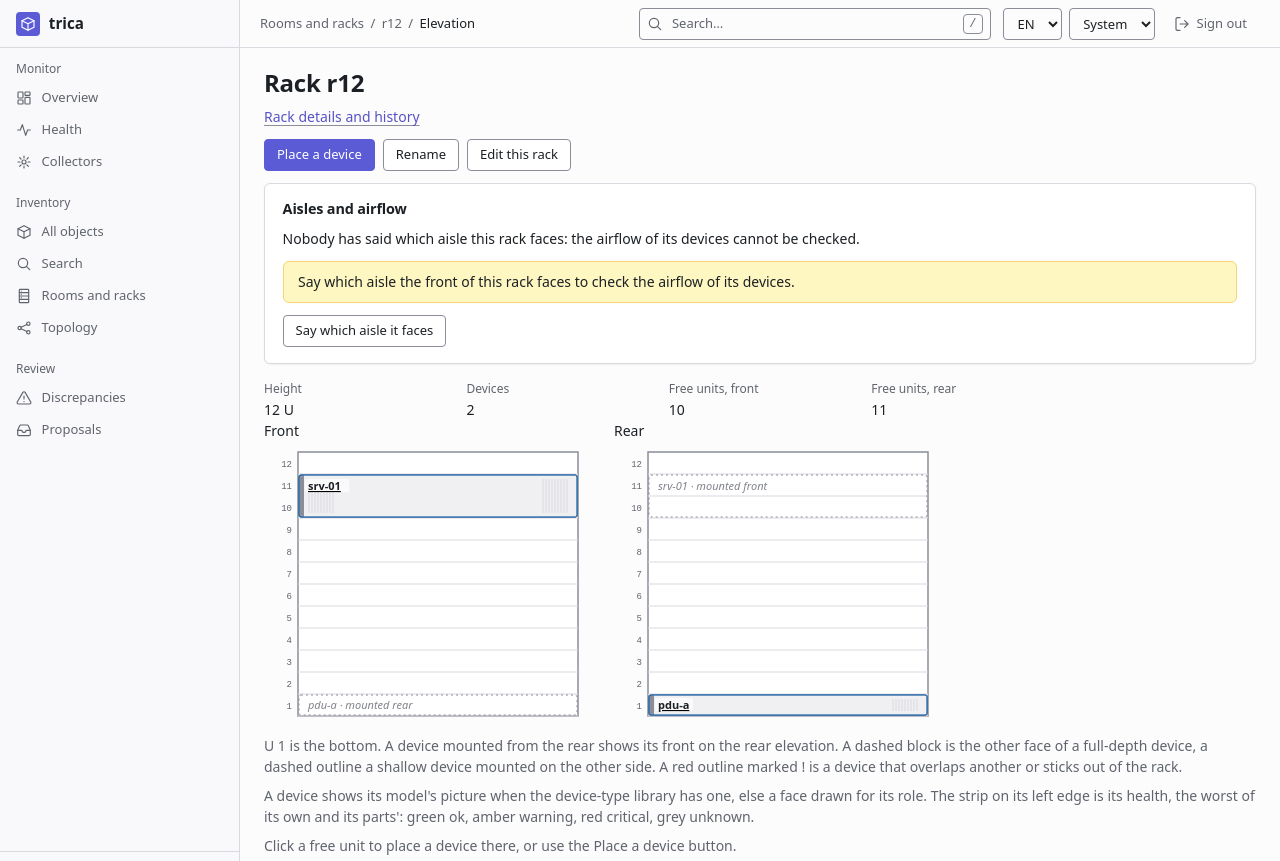
Test case: placing a device from the rack page › closes on Escape without sending anything and gives the focus back to the button that opened it
Expected: the heading "Rack r12" is shown, [264, 66, 364, 99]
Click the button "Place a device" at (319, 155), box [264, 139, 375, 171]
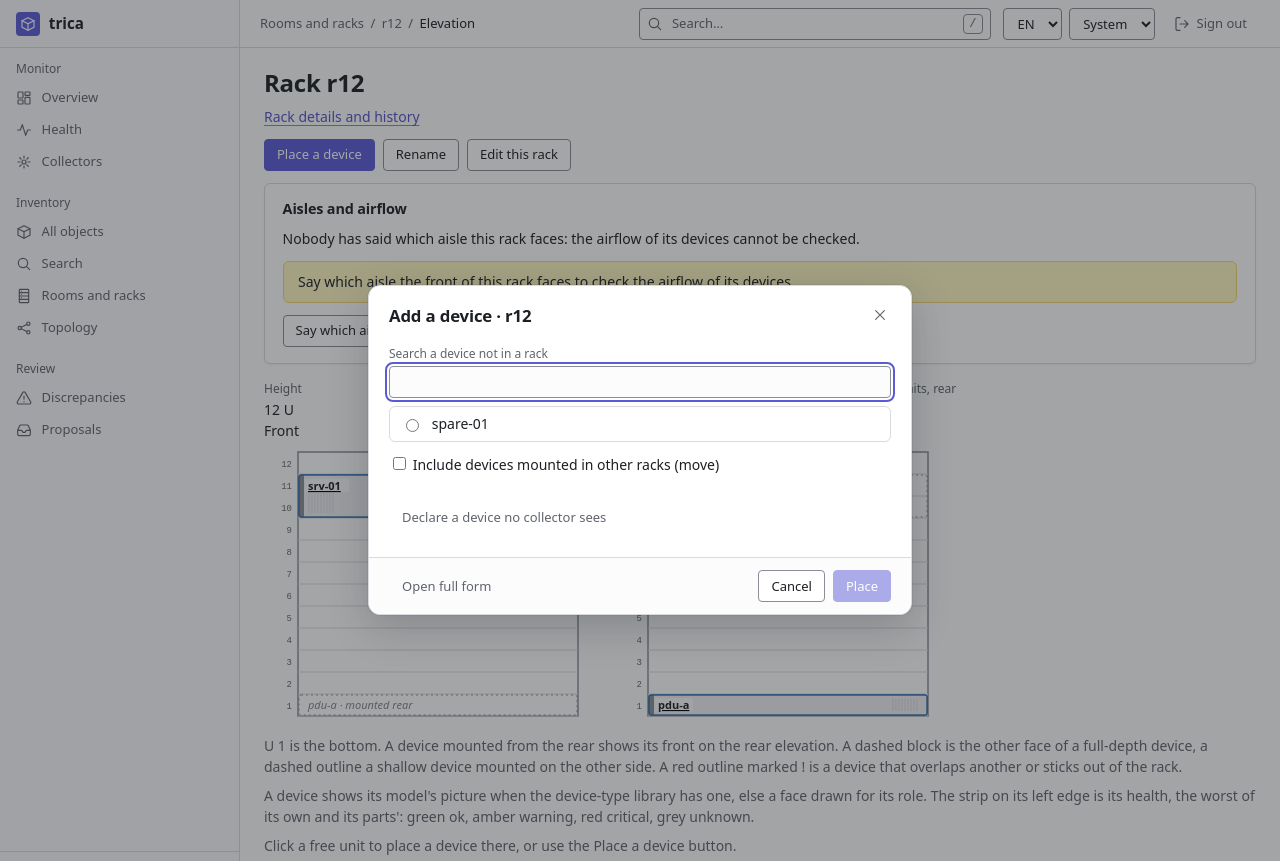
Press Escape
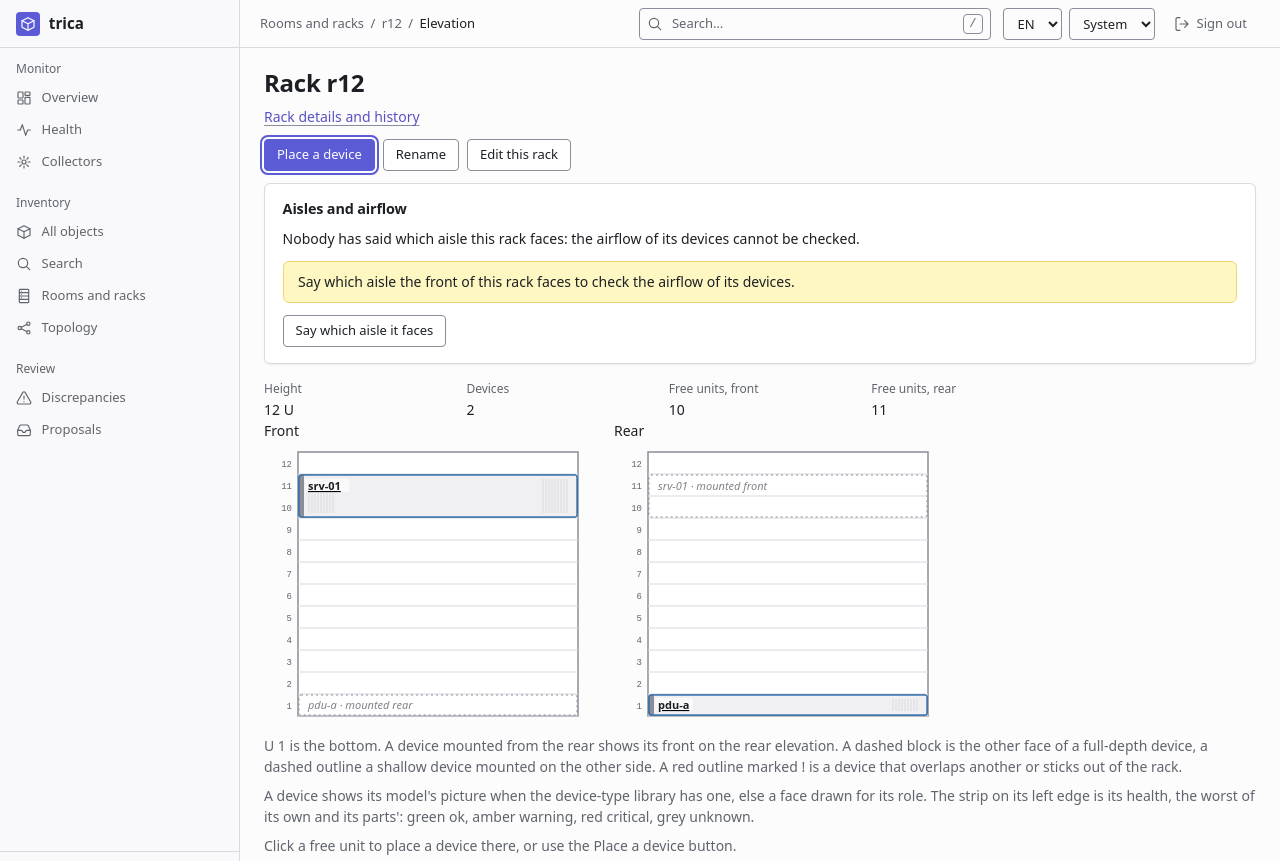
Result: the dialog is gone
